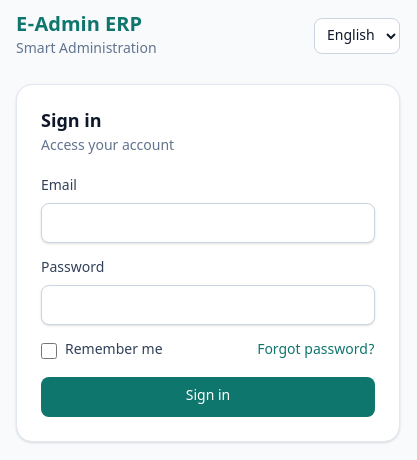
Test: password reset › links from sign-in to the forgot-password page and shows the server message
Click the link "Forgot password?".
click(316, 351)  # box left=257, top=341, right=375, bottom=361
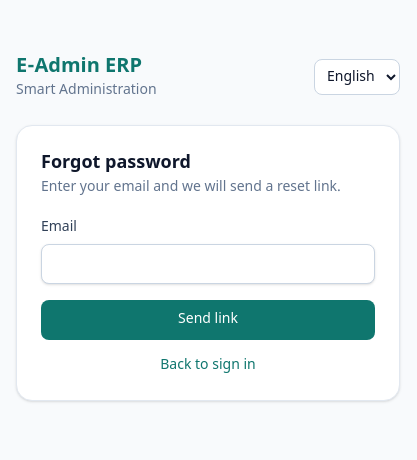
Type "someone@example.com" into the field labelled "Email".
click(208, 264); type("someone@example.com")  # box left=41, top=244, right=375, bottom=284
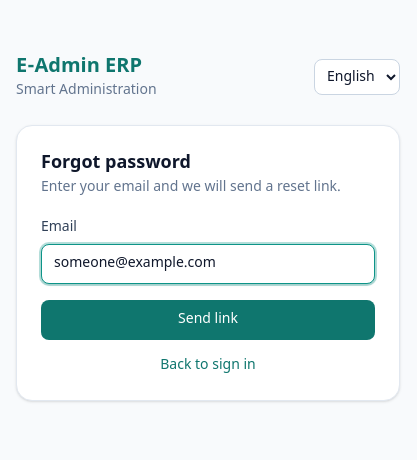
Click the button "Send link".
click(208, 320)  # box left=41, top=300, right=375, bottom=340
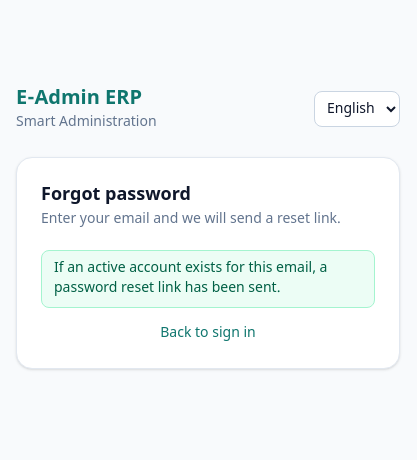
expect the message shows "If an active account exists": met, box left=54, top=259, right=327, bottom=298
